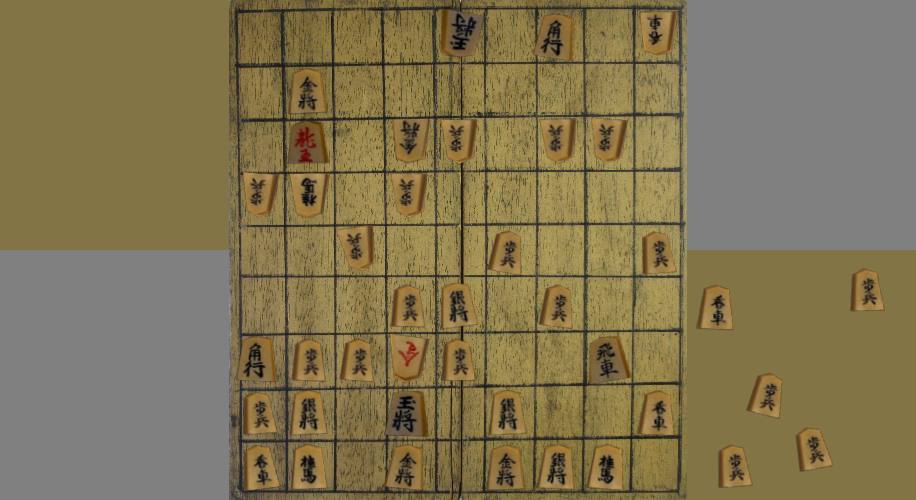A: (590, 338, 629, 383), (386, 393, 426, 436), (237, 338, 275, 381), (386, 446, 422, 490), (289, 121, 327, 162), (488, 446, 524, 489), (290, 70, 325, 113), (245, 446, 279, 490), (588, 445, 622, 489), (538, 16, 572, 59), (639, 392, 673, 435), (443, 284, 476, 328), (539, 446, 573, 488), (491, 391, 524, 434), (293, 446, 326, 488), (489, 232, 520, 273), (341, 340, 372, 381), (541, 286, 571, 327), (393, 286, 423, 326), (444, 340, 474, 380), (645, 233, 675, 273), (294, 340, 323, 380), (246, 394, 275, 433), (295, 396, 321, 433)
B: (443, 10, 482, 56), (291, 174, 328, 217), (394, 120, 429, 162), (339, 226, 373, 269), (393, 336, 426, 380), (392, 174, 426, 216), (593, 119, 627, 161), (541, 120, 575, 161), (244, 174, 277, 215), (443, 121, 475, 162), (648, 15, 663, 45)
C: (797, 429, 832, 471), (698, 286, 732, 329), (748, 374, 780, 418), (720, 446, 751, 487), (852, 270, 883, 310)
